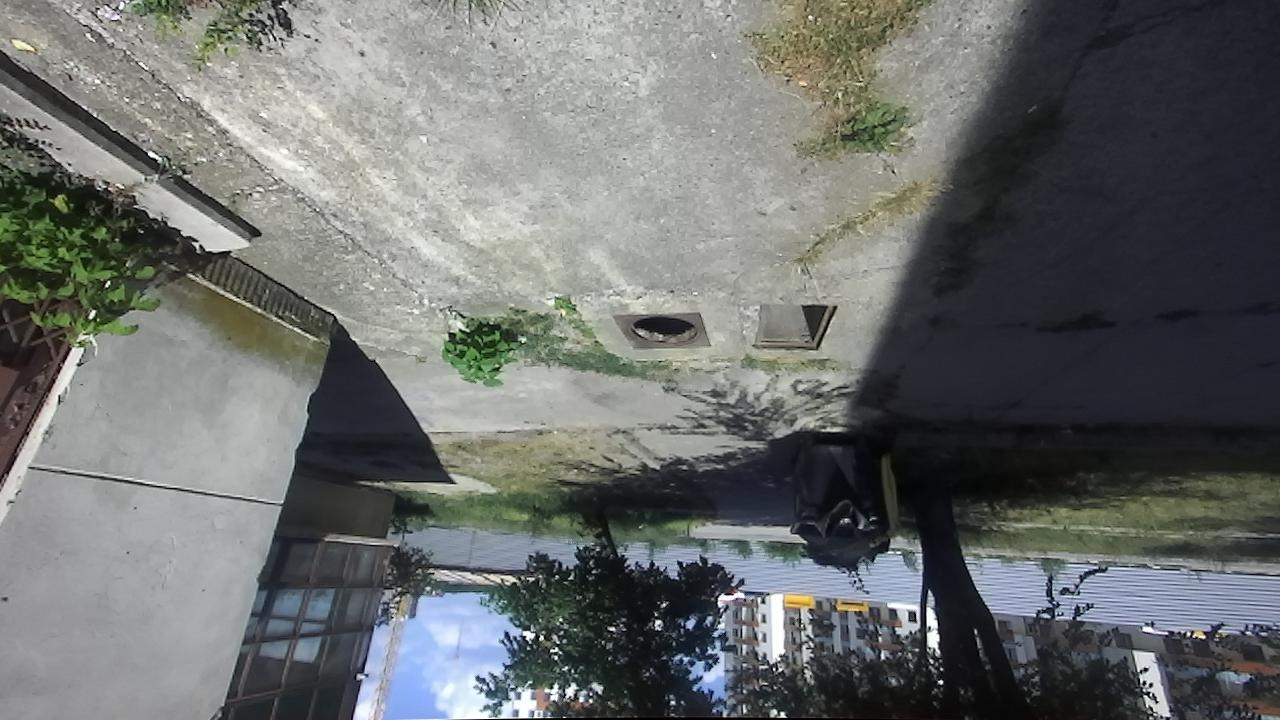drain: (749, 304, 841, 354), (624, 315, 701, 348)
